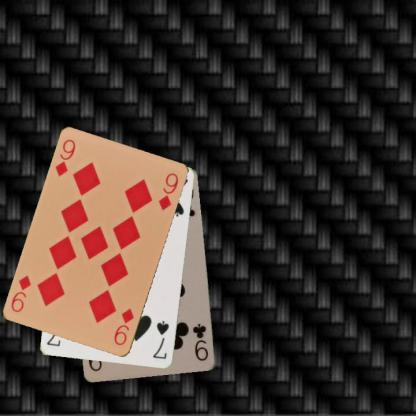7s: (150, 318, 171, 361)
9c: (190, 321, 210, 363)
9d: (111, 306, 136, 347), (52, 137, 77, 178)
